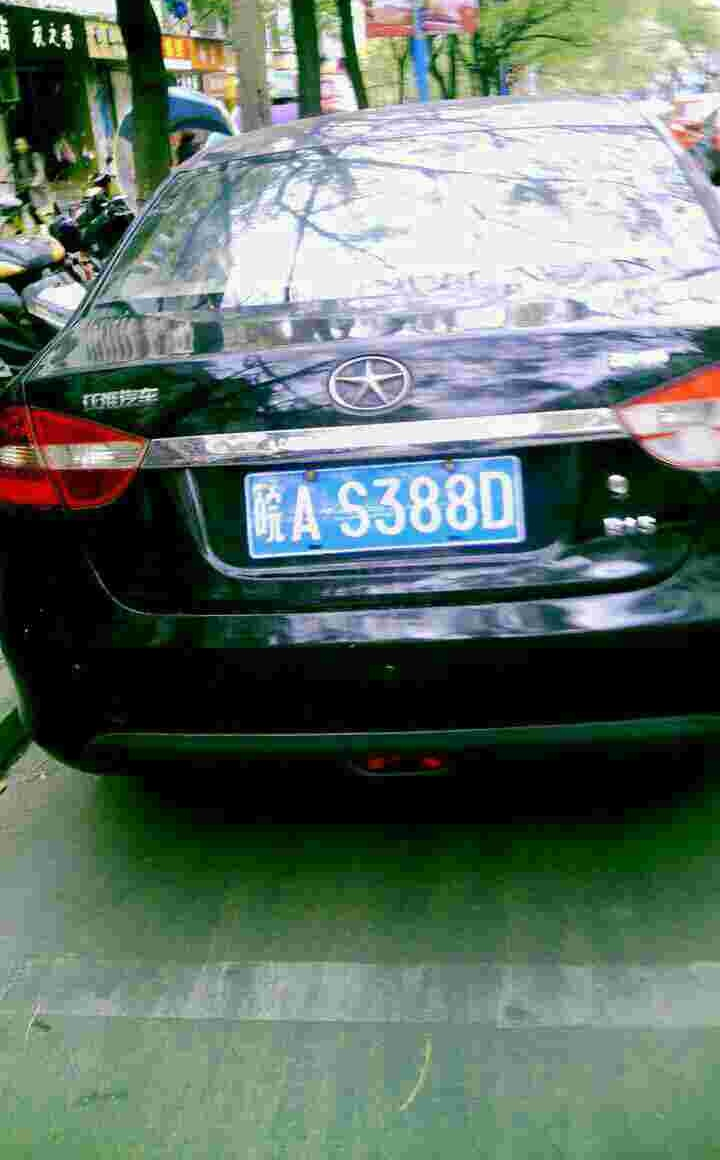license_plate: (231, 447, 525, 564)
